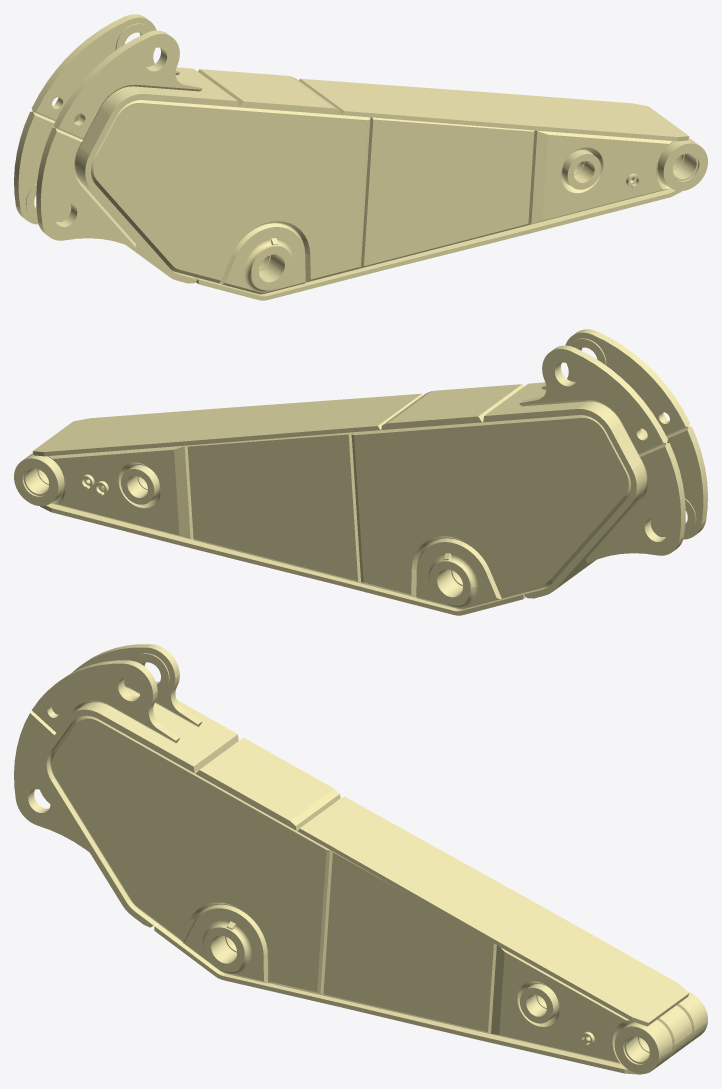
Rendered from SY870-Arm.dae.
The picture shows the model from 3 angles, top to bottom: view 1: azimuth 30°, elevation 25°; view 2: azimuth 150°, elevation 25°; view 3: azimuth 330°, elevation 25°; orthographic projection.
Visible parts, largest first — view 1: SY870_ARM_SOLID_1_Trimesh_Visual, SY870_ARM_QUILT_4_Trimesh_Visual; view 2: SY870_ARM_SOLID_1_Trimesh_Visual; view 3: SY870_ARM_SOLID_1_Trimesh_Visual, SY870_ARM_QUILT_4_Trimesh_Visual.
Part boxes in pixels (x1,y1,x2,y2): SY870_ARM_SOLID_1_Trimesh_Visual: (14, 14, 707, 300); SY870_ARM_QUILT_4_Trimesh_Visual: (219, 222, 305, 294); SY870_ARM_SOLID_1_Trimesh_Visual: (14, 329, 707, 615); SY870_ARM_SOLID_1_Trimesh_Visual: (14, 644, 707, 1074); SY870_ARM_QUILT_4_Trimesh_Visual: (183, 904, 268, 983).
Size of the model in its own units: 4.13 by 0.534 by 1.74.
